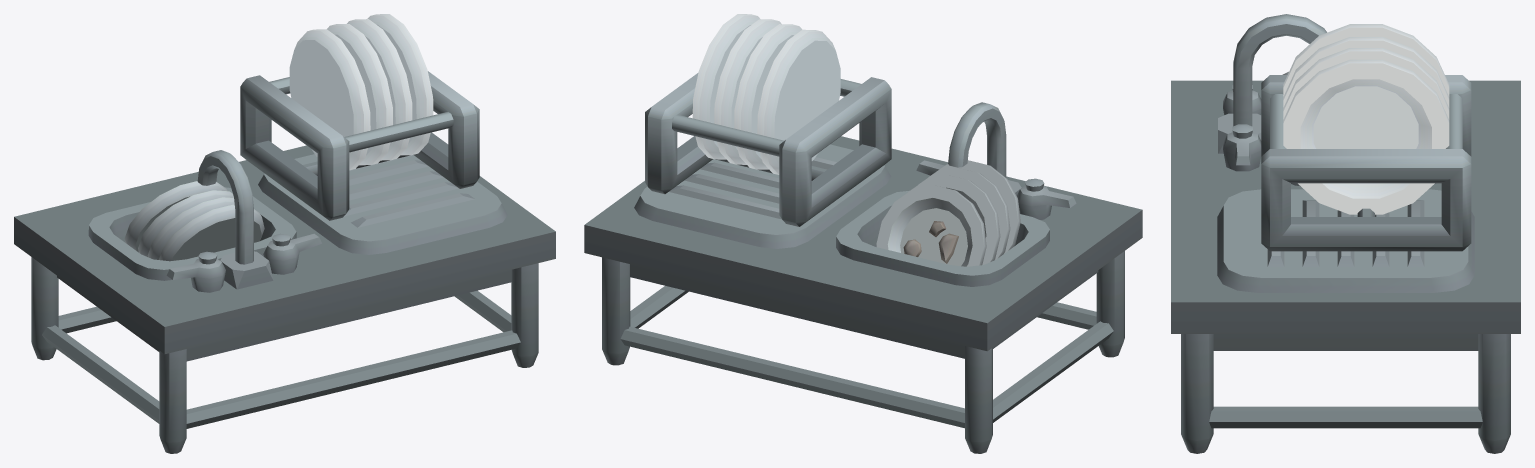
File: sink_counter.glb
The picture shows the model from 3 angles, left to right: view 1: azimuth 30°, elevation 25°; view 2: azimuth 150°, elevation 25°; view 3: azimuth 270°, elevation 25°; orthographic projection. The views are drawn at different scales.
Parts seen in each view (by area): view 1: kitchentable_sink_large, dishrack, plate9, plate7, plate_dirty, plate3, plate5, plate_dirty6, plate_dirty5, plate_dirty4; view 2: kitchentable_sink_large, dishrack, plate9, plate_dirty6, plate7, plate3, plate5, plate_dirty5, plate_dirty4, plate_dirty; view 3: kitchentable_sink_large, dishrack, plate3, plate9, plate5, plate7.
Boxes of the visible parts, bbox=[...] form: kitchentable_sink_large: bbox=[14, 145, 555, 453]; dishrack: bbox=[240, 71, 479, 220]; plate9: bbox=[289, 29, 370, 170]; plate7: bbox=[327, 24, 392, 165]; plate_dirty: bbox=[159, 204, 264, 261]; plate3: bbox=[367, 14, 433, 155]; plate5: bbox=[347, 19, 412, 160]; plate_dirty6: bbox=[124, 181, 227, 252]; plate_dirty5: bbox=[138, 190, 233, 256]; plate_dirty4: bbox=[147, 197, 234, 259]; kitchentable_sink_large: bbox=[584, 102, 1142, 453]; dishrack: bbox=[645, 73, 891, 226]; plate9: bbox=[757, 29, 840, 174]; plate_dirty6: bbox=[876, 185, 986, 266]; plate7: bbox=[734, 24, 802, 169]; plate3: bbox=[692, 14, 760, 159]; plate5: bbox=[714, 19, 781, 164]; plate_dirty5: bbox=[908, 175, 1000, 264]; plate_dirty4: bbox=[918, 167, 1010, 259]; plate_dirty: bbox=[928, 160, 1020, 253]; kitchentable_sink_large: bbox=[1171, 14, 1520, 453]; dishrack: bbox=[1261, 75, 1471, 251]; plate3: bbox=[1283, 59, 1449, 214]; plate9: bbox=[1283, 24, 1449, 96]; plate5: bbox=[1283, 48, 1449, 119]; plate7: bbox=[1283, 37, 1449, 107].
Size of the model in its own units: 3 by 2.24 by 2.
Materials: 4 (4 with a texture image).
